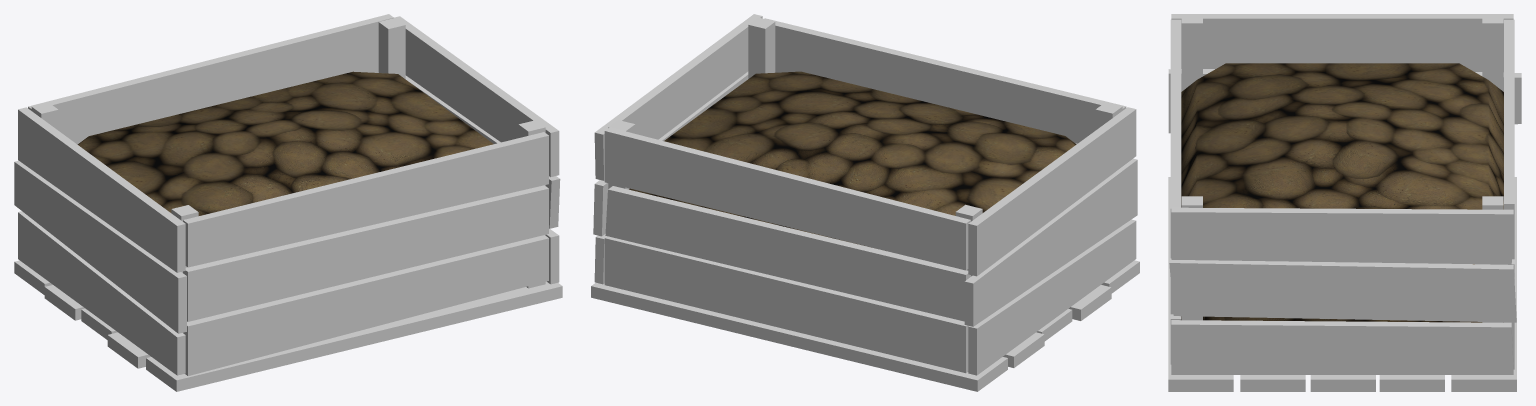
Rendered from pack2_fruits.fbx.
The picture shows the model from 3 angles, left to right: view 1: azimuth 30°, elevation 25°; view 2: azimuth 150°, elevation 25°; view 3: azimuth 270°, elevation 25°; orthographic projection. The views are drawn at different scales.
Visible parts, largest first — view 1: polySurface1283; view 2: polySurface1283; view 3: polySurface1283.
Part boxes in pixels (x1,y1,x2,y2): polySurface1283: (14,14,562,391); polySurface1283: (591,14,1139,391); polySurface1283: (1168,14,1521,391).
Bounding box in the file's own units: 0.8624 × 0.3557 × 0.6275.
